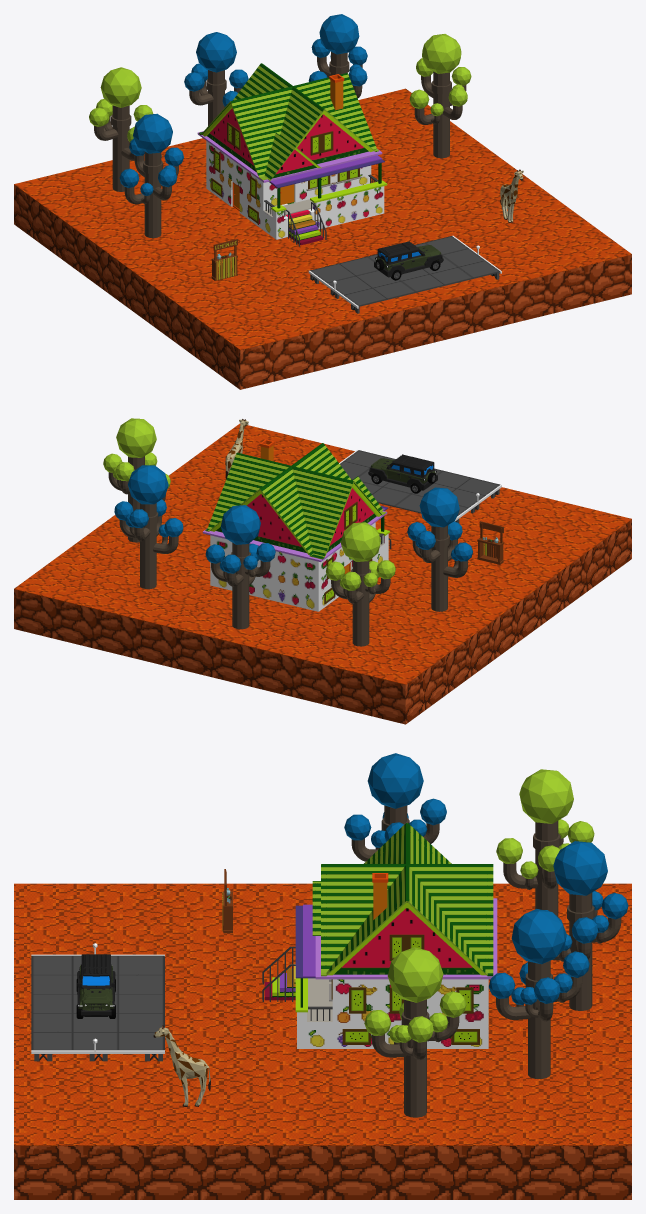
3 views of the same model, one above another, from view 1: azimuth 30°, elevation 25°; view 2: azimuth 150°, elevation 25°; view 3: azimuth 270°, elevation 25° (orthographic). The views are drawn at different scales.
Visible parts, largest first — view 1: Cube.001, Cube.1063, VEHICLES_JEEP, OBJRANDOM_LEMONADE_STAND, ANIMAL_JIRAFA; view 2: Cube.001, Cube.1063, VEHICLES_JEEP, OBJRANDOM_LEMONADE_STAND, ANIMAL_JIRAFA; view 3: Cube.001, Cube.1063, VEHICLES_JEEP, ANIMAL_JIRAFA.
Boxes of the visible parts, bbox=[...] form: Cube.001: bbox=[14, 14, 631, 389]; Cube.1063: bbox=[197, 63, 387, 246]; VEHICLES_JEEP: bbox=[374, 241, 443, 280]; OBJRANDOM_LEMONADE_STAND: bbox=[211, 239, 237, 280]; ANIMAL_JIRAFA: bbox=[500, 169, 523, 222]; Cube.001: bbox=[14, 418, 631, 724]; Cube.1063: bbox=[202, 439, 391, 611]; VEHICLES_JEEP: bbox=[368, 454, 437, 493]; OBJRANDOM_LEMONADE_STAND: bbox=[477, 521, 503, 564]; ANIMAL_JIRAFA: bbox=[225, 419, 248, 478]; Cube.001: bbox=[14, 753, 631, 1199]; Cube.1063: bbox=[262, 823, 497, 1048]; VEHICLES_JEEP: bbox=[76, 954, 115, 1018]; ANIMAL_JIRAFA: bbox=[153, 1025, 210, 1106].
Size of the model in its own units: 4000 by 1664 by 4000.
43 materials, 6 textured.
